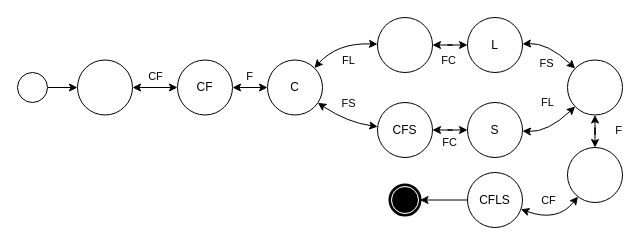
This 640x245 diagram has some shape labels left out. The shapes that lost their labels are listed below. From the top down, each one's centre as x and y in pixels, then its label:
At (x=404, y=44): "CFL".
At (x=594, y=87): "LFS".
At (x=594, y=174): "LS".
